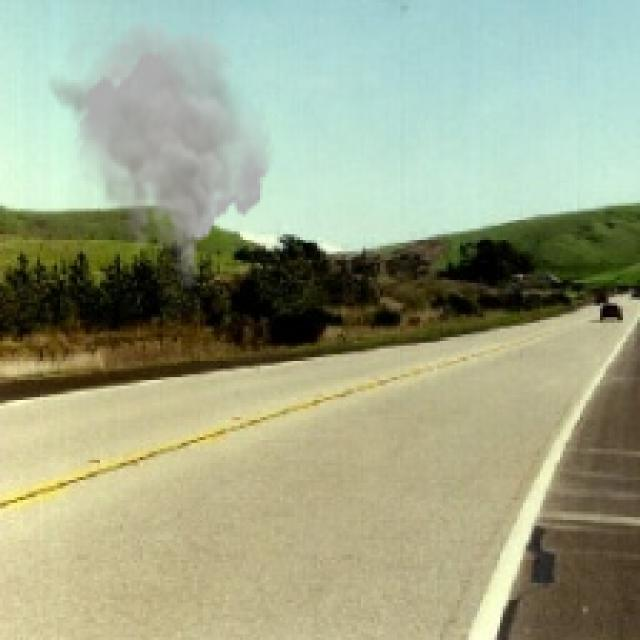smoke: (46, 14, 274, 294)
